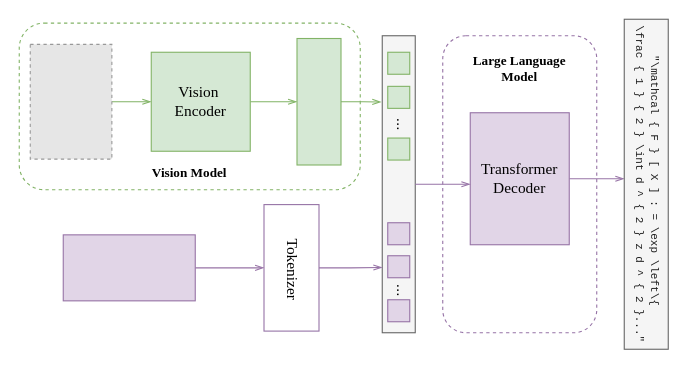
The diagram is 688 pixels wide and 369 high, and some of its shapes have lost their labels. Grey dashed boxes stand in for pictures. Each missing label, with the box of its shape:
"Write the text representation of this image": (62, 234, 195, 301)
Linear Projection: (296, 37, 341, 165)
